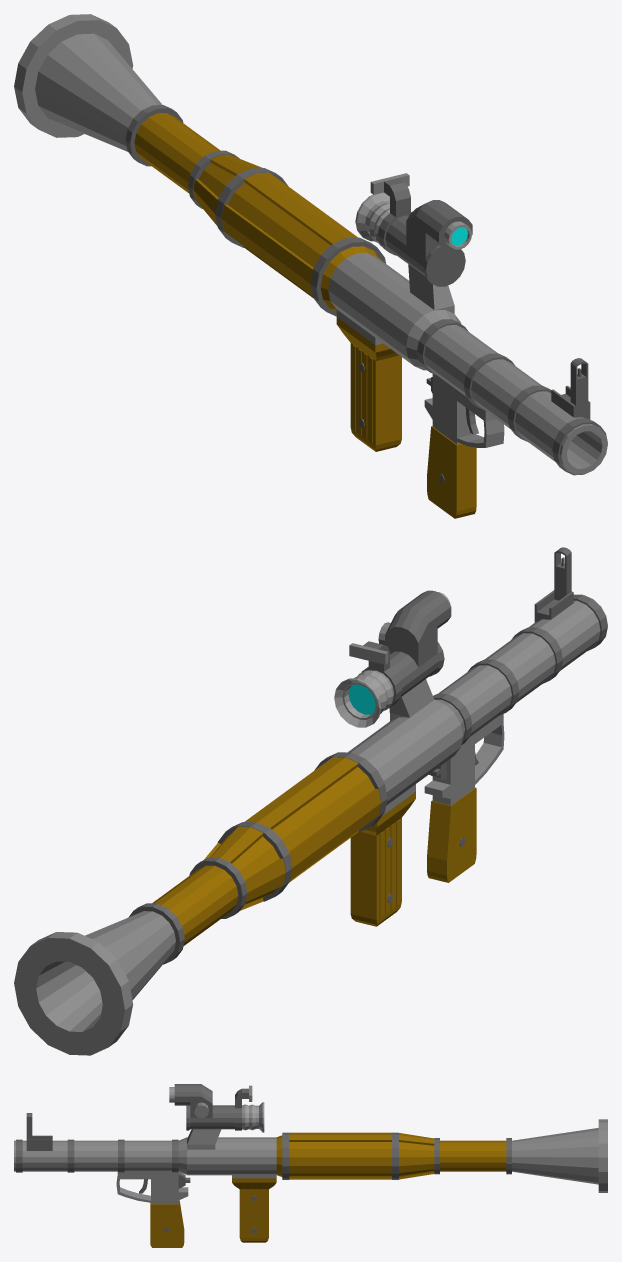
File: RPGL.fbx
3 renders of one model, top to bottom at view 1: azimuth 30°, elevation 25°; view 2: azimuth 150°, elevation 25°; view 3: azimuth 270°, elevation 25°, orthographic. The views are drawn at different scales.
Visible parts, largest first — view 1: Tube6; view 2: Tube6; view 3: Tube6.
Boxes of the visible parts, x1=… form: Tube6: x1=14, y1=14, x2=607, y2=518; Tube6: x1=14, y1=547, x2=607, y2=1055; Tube6: x1=14, y1=1084, x2=607, y2=1247.
Size of the model in its own units: 312 by 758 by 2507.
